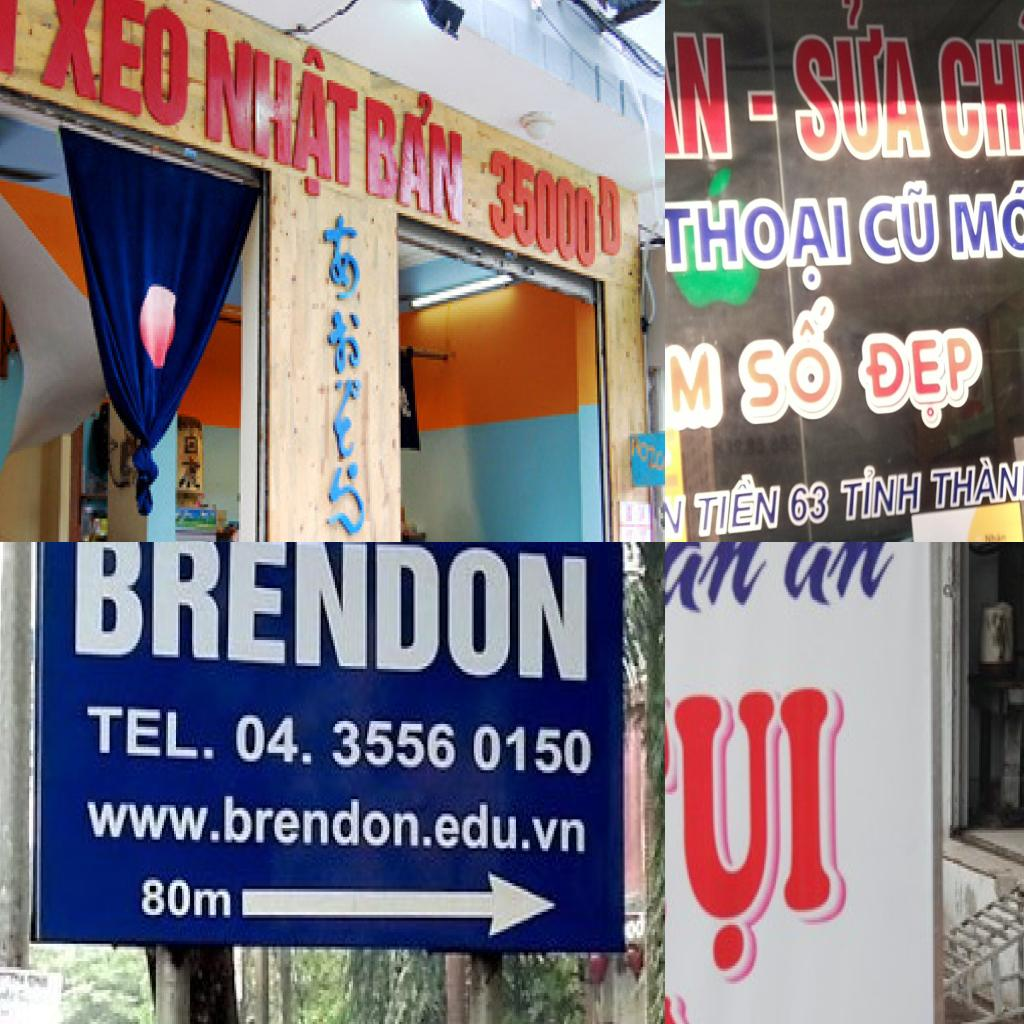text: (69, 542, 590, 689), (665, 684, 842, 986), (82, 785, 590, 860), (204, 0, 361, 210), (230, 706, 596, 782), (781, 0, 934, 169), (665, 188, 859, 299), (484, 125, 622, 281), (38, 0, 189, 139), (854, 302, 1000, 442), (362, 68, 466, 236), (737, 293, 850, 437), (665, 542, 781, 676), (933, 10, 1024, 168), (665, 0, 739, 163), (779, 542, 907, 617), (852, 179, 944, 275), (82, 701, 222, 761), (930, 434, 1024, 516), (946, 172, 1024, 270), (690, 462, 783, 542), (665, 329, 727, 435), (834, 460, 924, 528), (138, 877, 236, 924), (788, 471, 839, 532), (745, 79, 784, 122), (981, 529, 1008, 542)
